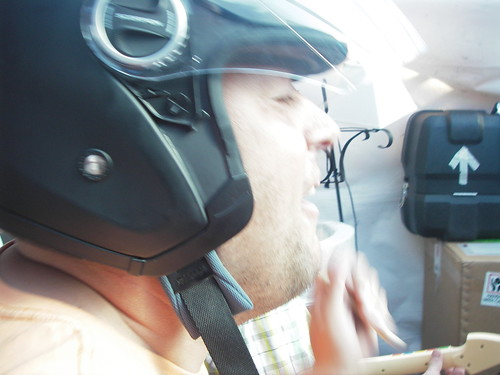helmet: (2, 2, 255, 275)
